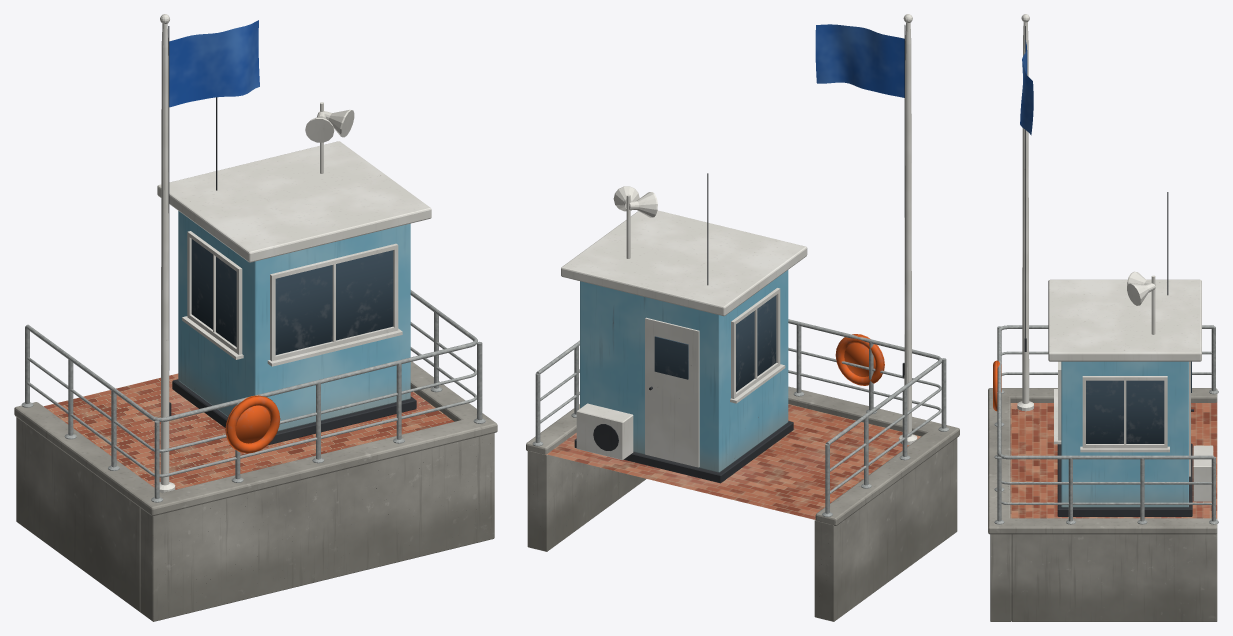
The model's file is LifeguardTower.gltf.
3 views of the same model, side by side, from view 1: azimuth 30°, elevation 25°; view 2: azimuth 150°, elevation 25°; view 3: azimuth 270°, elevation 25° (orthographic). The views are drawn at different scales.
Visible parts, largest first — view 1: LifeguardTower; view 2: LifeguardTower; view 3: LifeguardTower.
Part boxes in pixels (bbox=[...]): LifeguardTower: bbox=[14, 14, 497, 621]; LifeguardTower: bbox=[526, 14, 959, 621]; LifeguardTower: bbox=[988, 14, 1218, 621].
Bounding box in the file's own units: 4.66 × 7.51 × 3.25.
9 materials, 9 textured.
